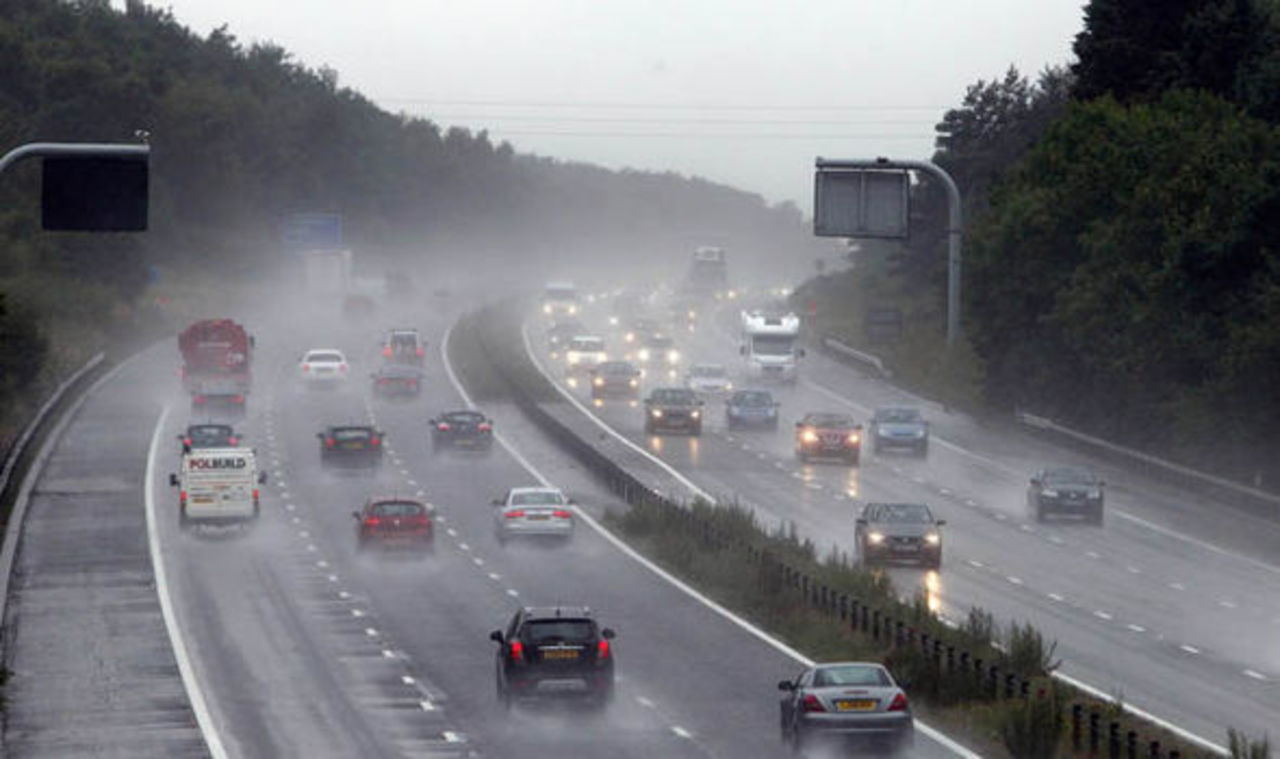car: (495, 605, 613, 706), (779, 661, 913, 742), (165, 445, 270, 536), (856, 502, 946, 569), (353, 497, 436, 554), (1027, 464, 1105, 523), (496, 487, 576, 540), (793, 410, 863, 465), (311, 423, 388, 467), (642, 384, 704, 436), (870, 406, 930, 456), (428, 409, 495, 453), (725, 388, 781, 431), (296, 348, 348, 387), (370, 363, 425, 399), (593, 361, 643, 399), (378, 327, 429, 364), (538, 281, 581, 322), (633, 337, 683, 372), (686, 357, 734, 392), (178, 416, 242, 440), (563, 339, 605, 375)
truck: (176, 316, 255, 413), (736, 305, 805, 384)
